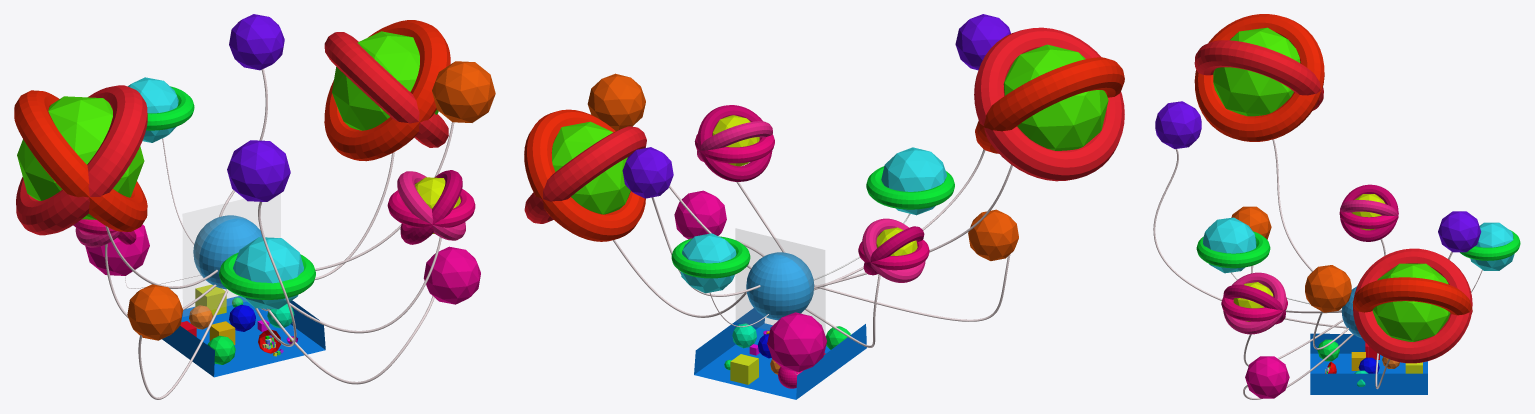
The model's file is modelo.glb.
The picture shows the model from 3 angles, left to right: view 1: azimuth 30°, elevation 25°; view 2: azimuth 150°, elevation 25°; view 3: azimuth 270°, elevation 25°; orthographic projection. The views are drawn at different scales.
Visible parts, largest first — view 1: Torus.007, Torus.009, Torus.006, Plane.001, Icosphere.015, Torus.005, Plane, Icosphere.011, Icosphere.013, Icosphere.014, Icosphere.012, Sphere (+24 smaller); view 2: Torus.007, Icosphere.015, Torus.006, Torus.009, Plane.001, Torus.005, Plane, Sphere, Icosphere.011, Icosphere.010, Icosphere.013, Icosphere.012 (+17 smaller); view 3: Torus.009, Torus.005, Plane.001, Icosphere.015, Torus.007, Icosphere.011, Torus.006, Icosphere.013, Icosphere.014, Icosphere.012, Icosphere.006, Icosphere.009 (+15 smaller).
Boxes of the visible parts, x1,y1,x2,y2 form: Torus.007: (16, 85, 147, 235); Torus.009: (14, 90, 147, 231); Torus.006: (324, 20, 450, 161); Plane.001: (162, 296, 325, 377); Icosphere.015: (17, 96, 144, 219); Torus.005: (324, 32, 448, 147); Plane: (182, 194, 280, 316); Icosphere.011: (332, 31, 438, 130); Icosphere.013: (432, 61, 495, 122); Icosphere.014: (227, 140, 290, 201); Icosphere.012: (233, 237, 303, 309); Sphere: (193, 215, 262, 289); Torus.007: (974, 27, 1124, 181); Icosphere.015: (1003, 44, 1108, 150); Torus.006: (524, 109, 645, 241); Torus.009: (975, 57, 1124, 153); Plane.001: (694, 308, 866, 399); Torus.005: (524, 126, 646, 223); Plane: (735, 228, 825, 334); Sphere: (746, 252, 814, 320); Icosphere.011: (552, 121, 630, 214); Icosphere.010: (767, 312, 826, 372); Icosphere.013: (587, 73, 645, 130); Icosphere.012: (881, 147, 946, 215); Torus.009: (1194, 14, 1324, 141); Torus.005: (1353, 248, 1472, 363); Plane.001: (1310, 333, 1427, 394); Icosphere.015: (1213, 27, 1300, 116); Torus.007: (1194, 40, 1323, 110); Icosphere.011: (1372, 263, 1450, 341); Torus.006: (1352, 277, 1472, 315); Icosphere.013: (1305, 265, 1351, 312); Icosphere.014: (1155, 101, 1201, 148); Icosphere.012: (1203, 217, 1256, 273); Icosphere.006: (1245, 356, 1289, 398); Icosphere.009: (1438, 211, 1481, 252).
Size of the model in its own units: 382 by 249 by 308.
